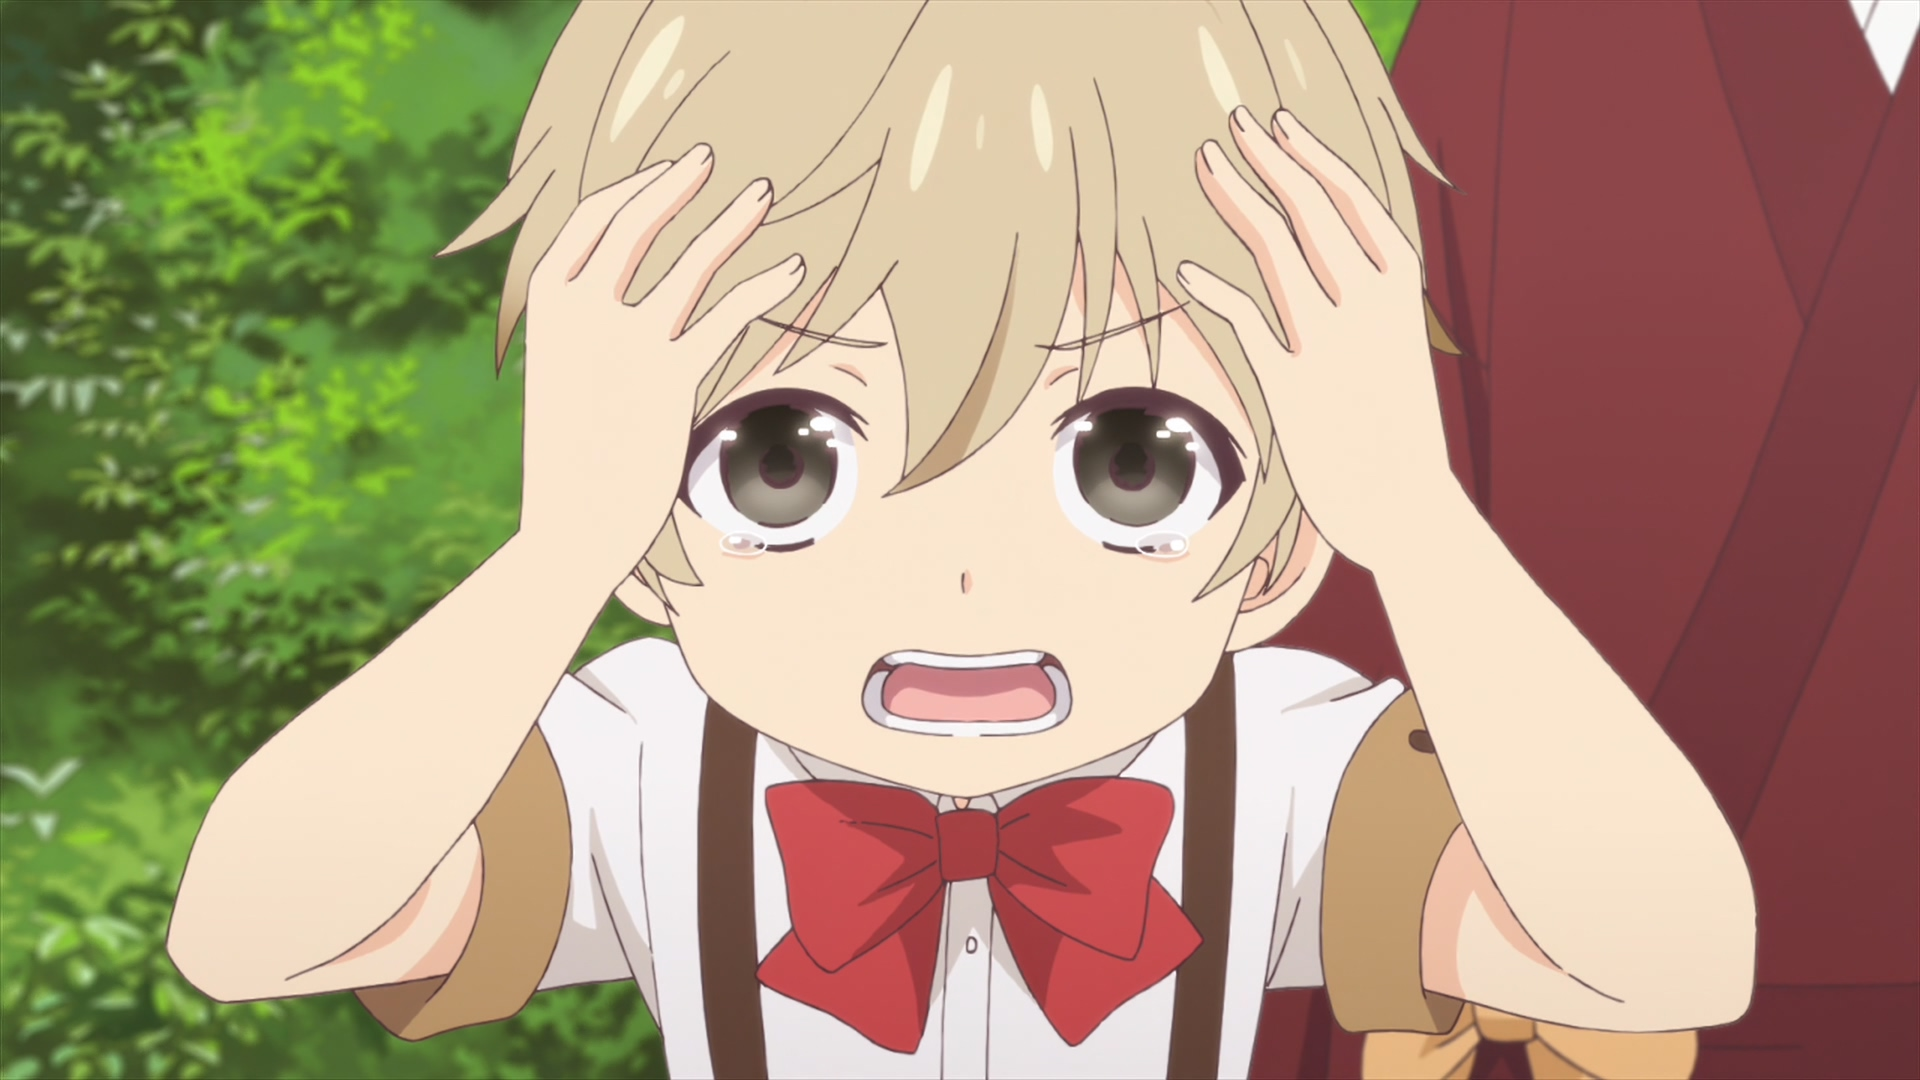其他: (165, 1, 1756, 1080)
